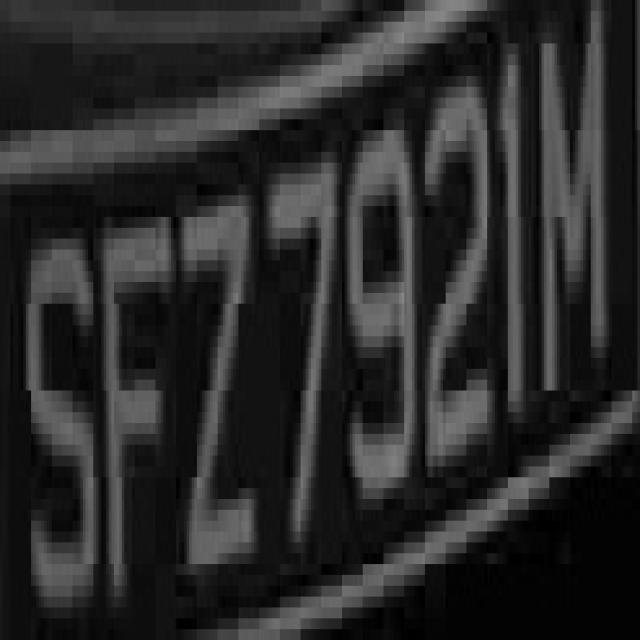1: (495, 43, 523, 456)
2: (420, 65, 492, 499)
7: (262, 141, 344, 532)
9: (337, 120, 417, 542)
F: (96, 195, 176, 608)
M: (526, 33, 617, 423)
S: (21, 238, 96, 596)
Z: (174, 174, 256, 618)
